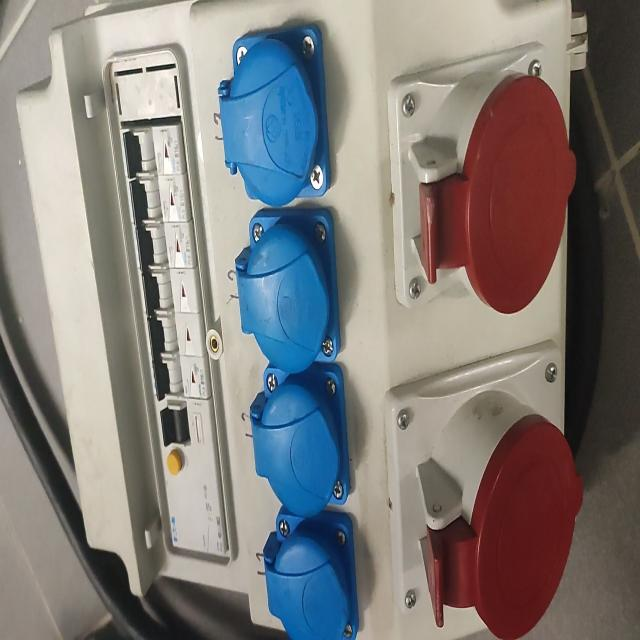400v socket: (382, 339, 582, 640), (386, 41, 576, 315)
house plug covered: (218, 21, 331, 204), (235, 208, 341, 373), (251, 363, 351, 516), (263, 505, 360, 640)
